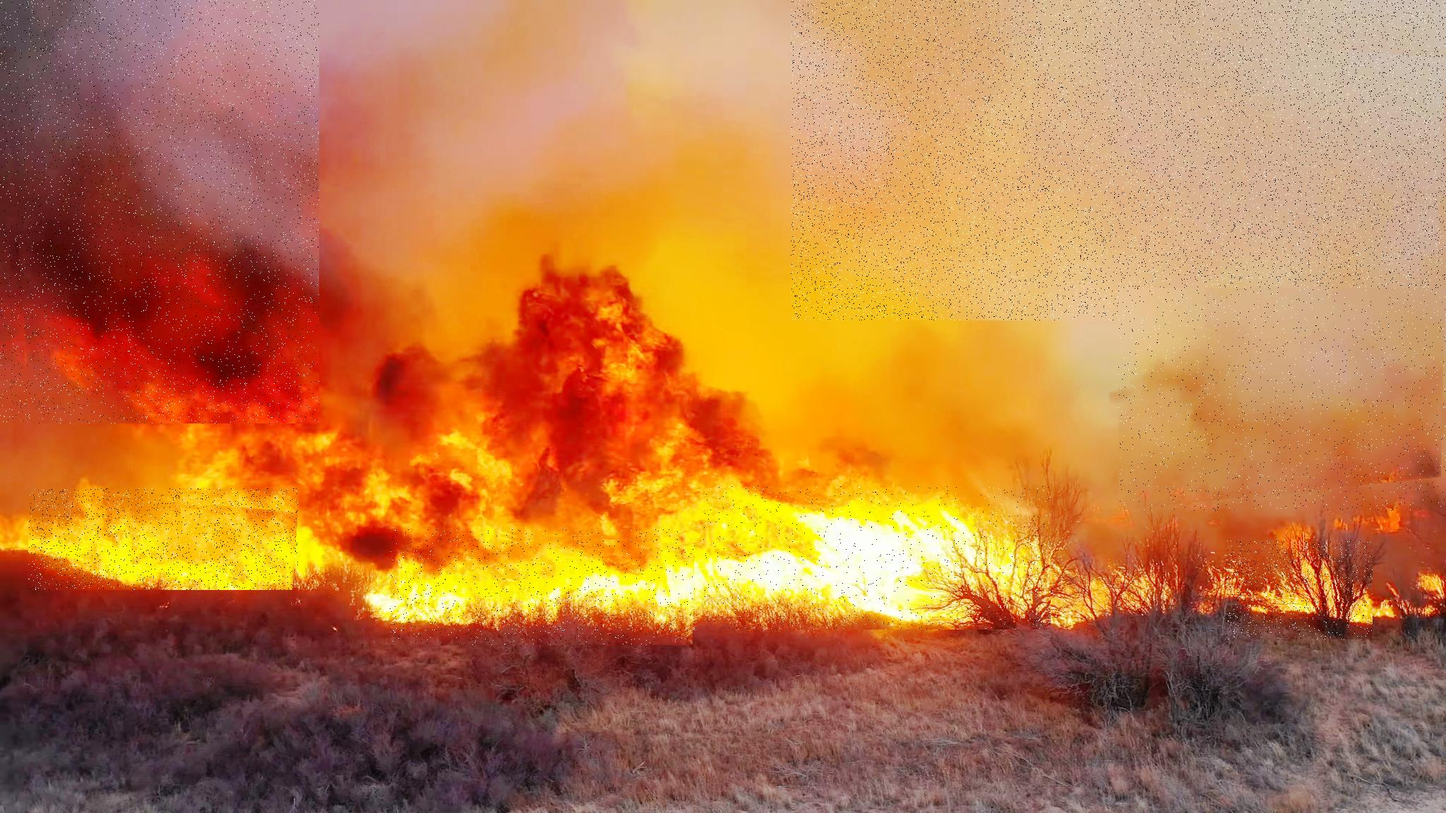fire: (703, 486, 1051, 629), (390, 529, 695, 645), (28, 488, 298, 590), (1226, 541, 1373, 639)
smoke: (791, 0, 1446, 320), (0, 0, 319, 423), (1118, 288, 1446, 511)
